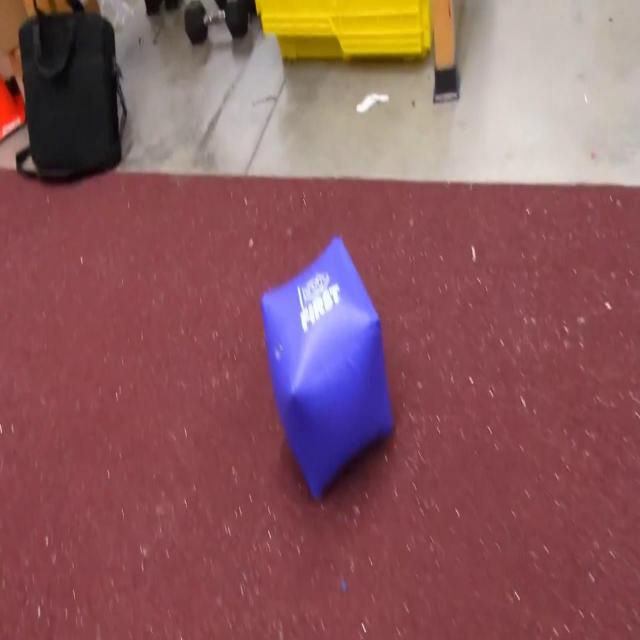frc_cube: (260, 235, 395, 501)
